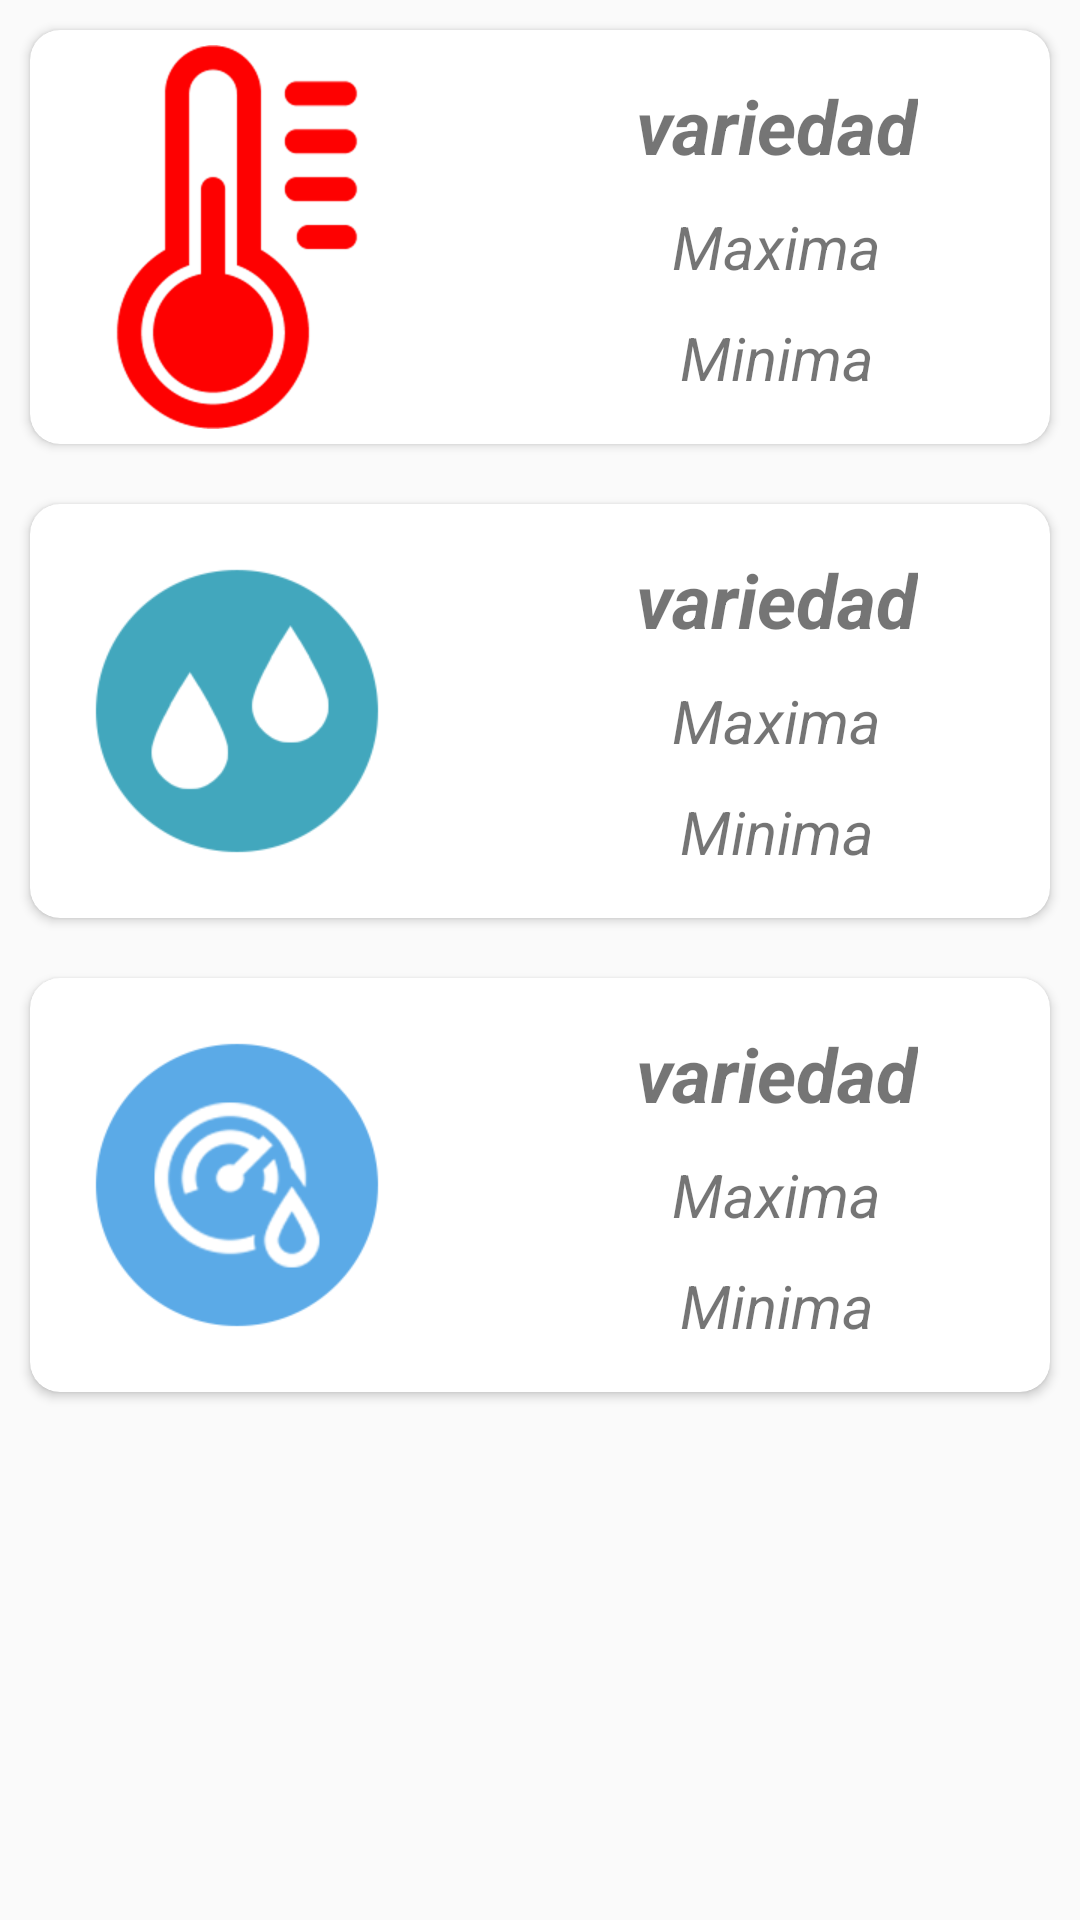

Screen size 1080*1920. Icon name, then its box in pixels as (x1, y1, x2, y2):
humedadrelativa: (95, 569, 379, 853)
humedadsuelo: (95, 1043, 379, 1327)
